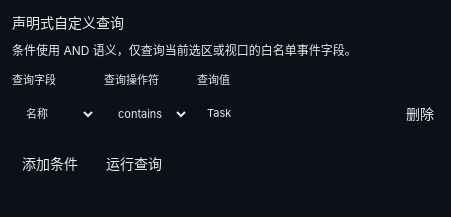
CustomQueryPanel › shows unavailable without treating it as an empty match
The width and height of the screenshot is (451, 217).
Click the button with aria-label "运行自定义查询".
click(134, 164)  # box [96,144,172,184]
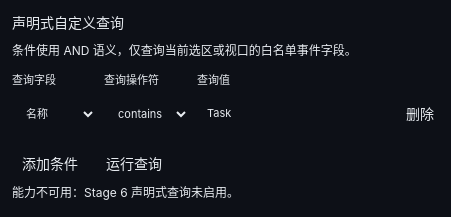
Check: the text "能力不可用：Stage 6 声明式查询未启用。" is shown, box [12,185,239,200]
